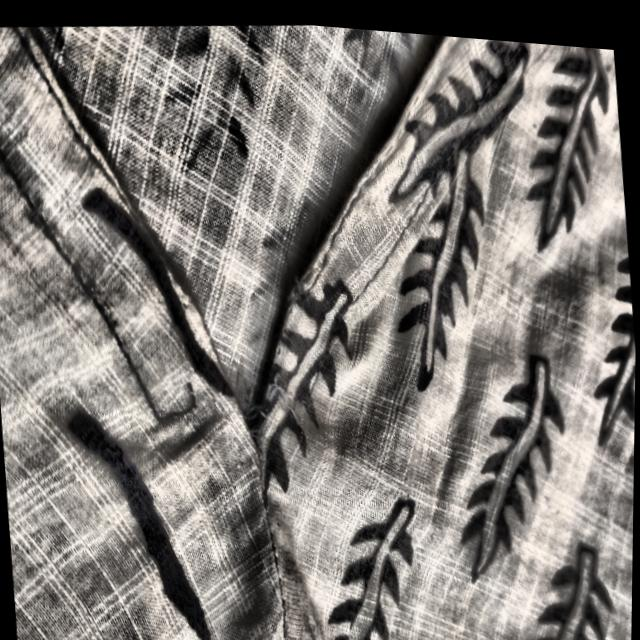Stitch: (245, 321, 378, 471), (122, 355, 247, 452)
